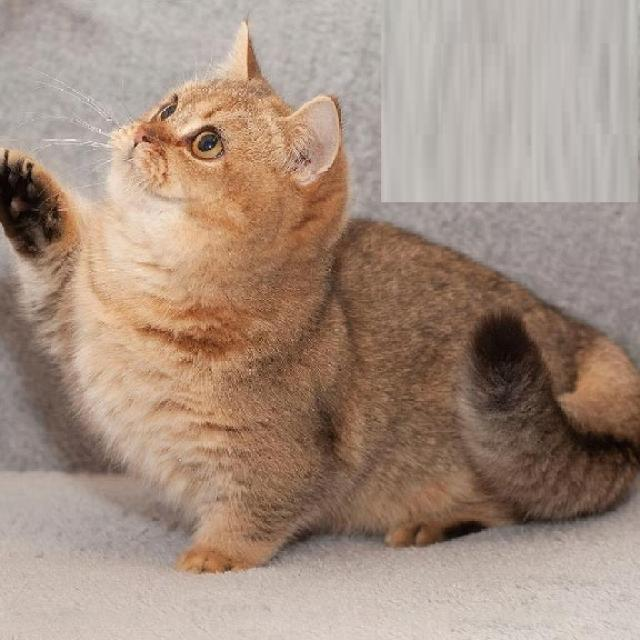Munchkin: (0, 13, 640, 579)
